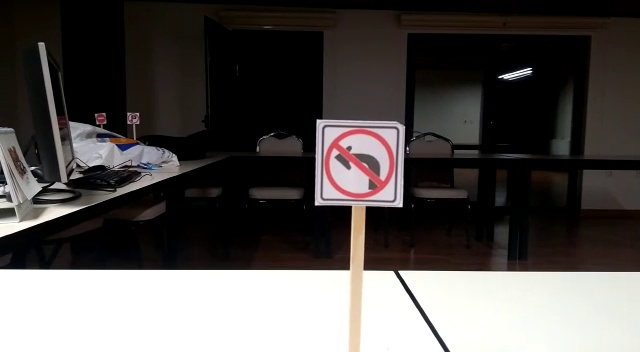sola_donulmez: (323, 127, 398, 200)
